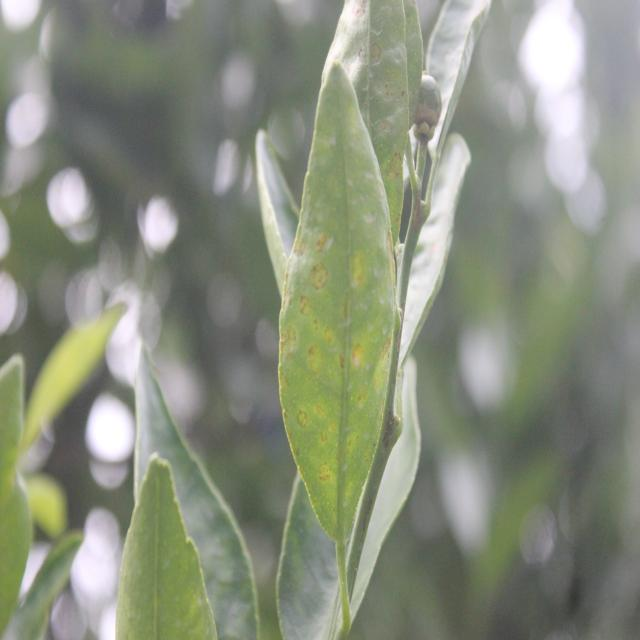canker: (281, 170, 394, 474)
